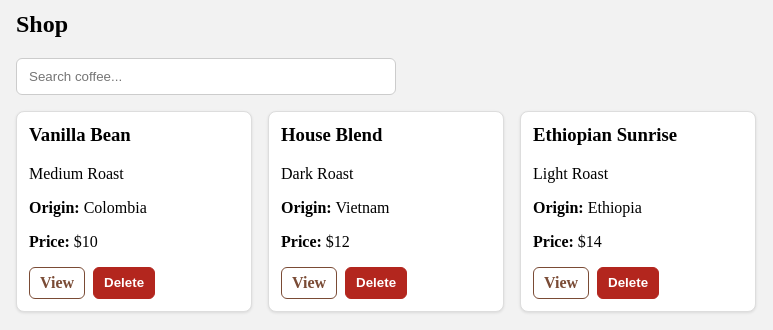
Shop page › filters products by search query
Check: the heading "Vanilla Bean" is shown, box [29,124,131,145]
Type "house" into the search input
Type "house" into the field with placeholder "Search coffee..." at (206, 76), box [16,58,396,95]
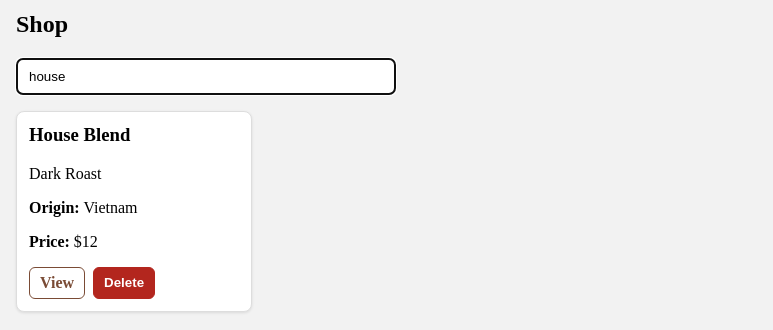
Check: the heading "House Blend" is shown, box [29,124,130,145]
Check: the heading "Vanilla Bean" is gone
